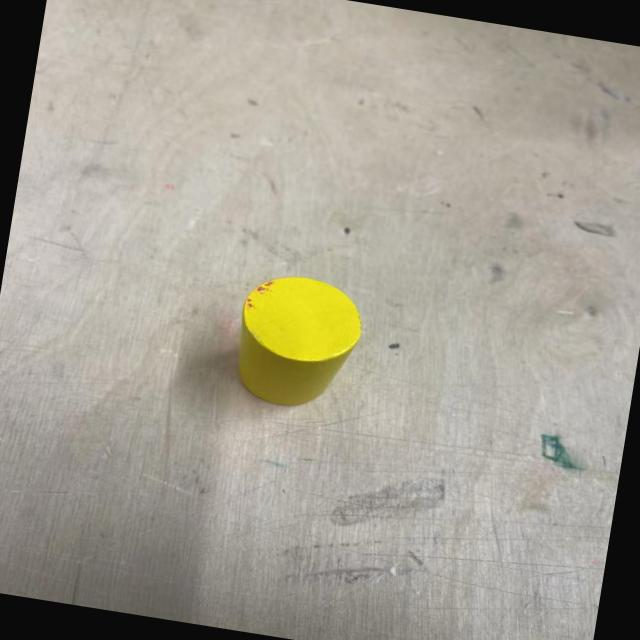yellow_cylinder: (226, 267, 370, 419)
